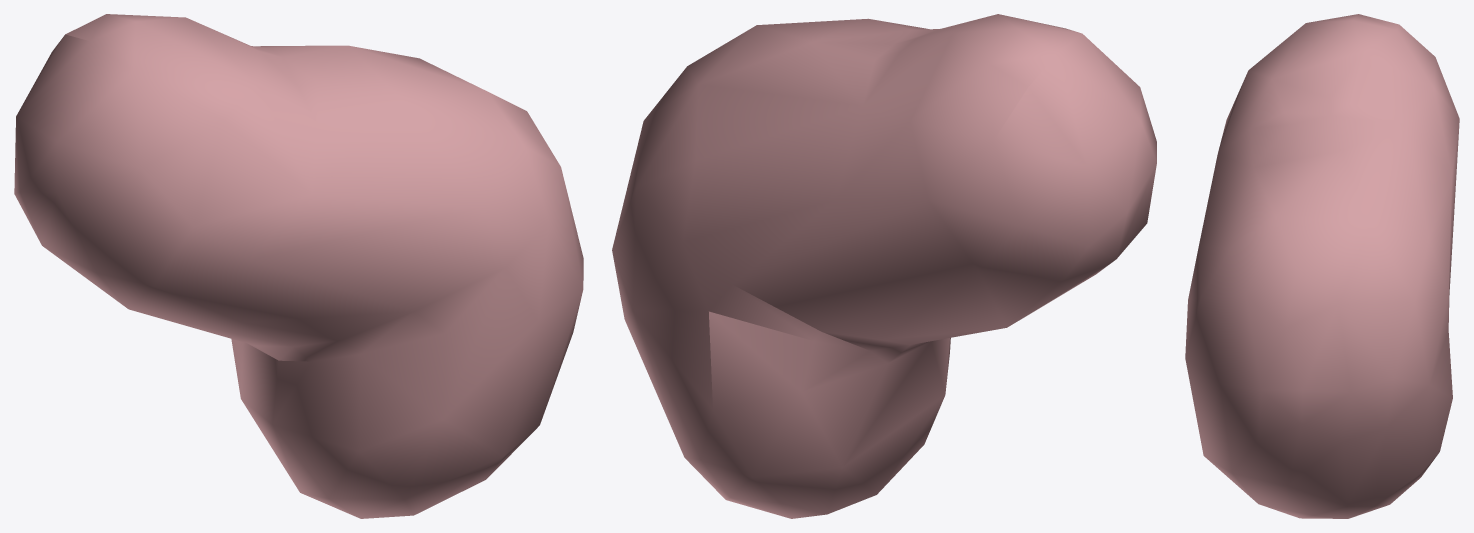
Rendered from fma16983_fj2618.glb.
3 views of the same model, side by side, from view 1: azimuth 30°, elevation 25°; view 2: azimuth 150°, elevation 25°; view 3: azimuth 270°, elevation 25° (orthographic). The views are drawn at different scales.
Parts seen in each view (by area): view 1: FMA16983_FJ2618; view 2: FMA16983_FJ2618; view 3: FMA16983_FJ2618.
Boxes of the visible parts, box(x1,y1,x2,y2) form: FMA16983_FJ2618: box(14, 14, 583, 518); FMA16983_FJ2618: box(612, 14, 1156, 518); FMA16983_FJ2618: box(1185, 14, 1459, 518).
Size of the model in its own units: 0.0403 by 0.0398 by 0.0244.
